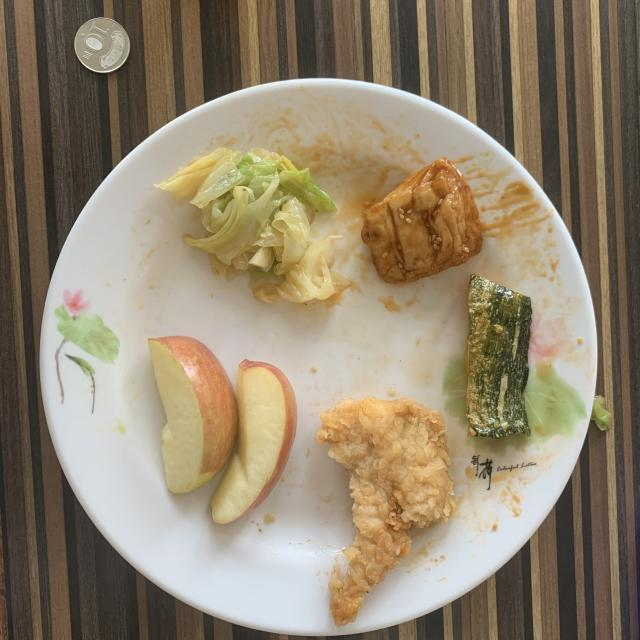apple -sliced-: (149, 336, 298, 524)
cabbage: (156, 148, 349, 302)
coin: (75, 18, 130, 74)
creamy tofu: (361, 158, 482, 282)
fried chicken cutlet: (316, 398, 456, 626)
pumpkin: (466, 275, 531, 438)
